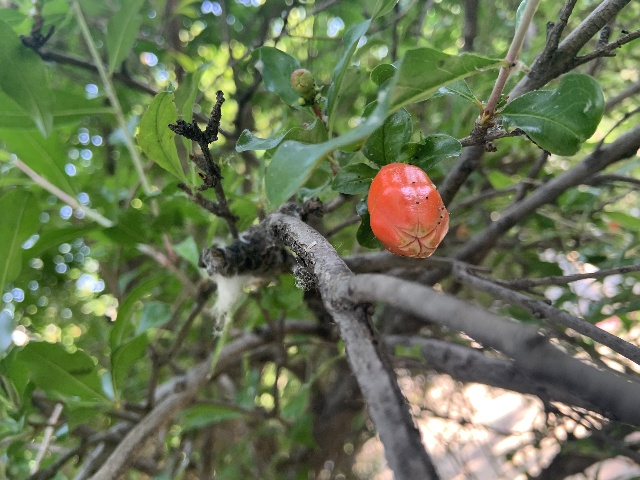bud: (367, 161, 448, 258), (290, 68, 315, 99)
